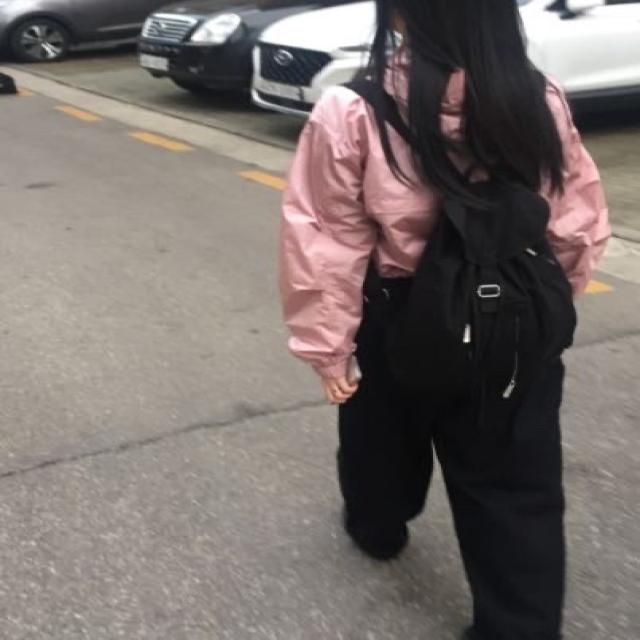cottonpants: (331, 253, 572, 640)
jacket: (268, 26, 615, 396)
